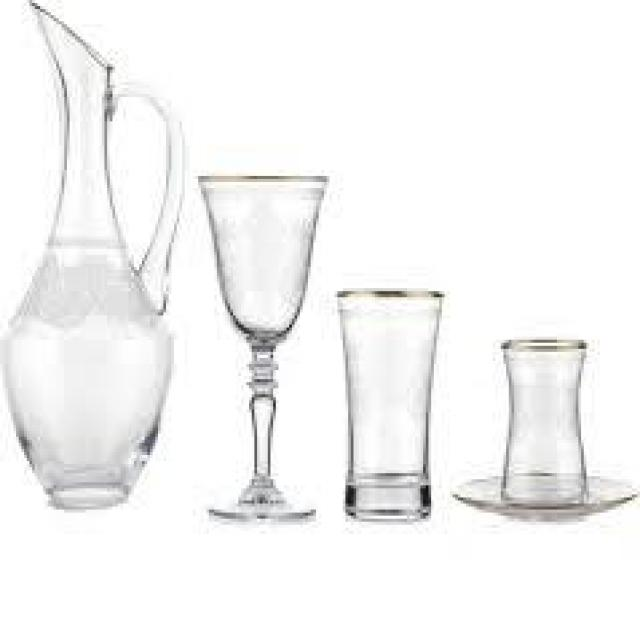non-organic waste: (0, 0, 187, 509), (192, 170, 326, 525), (450, 335, 640, 520), (333, 285, 446, 525)
